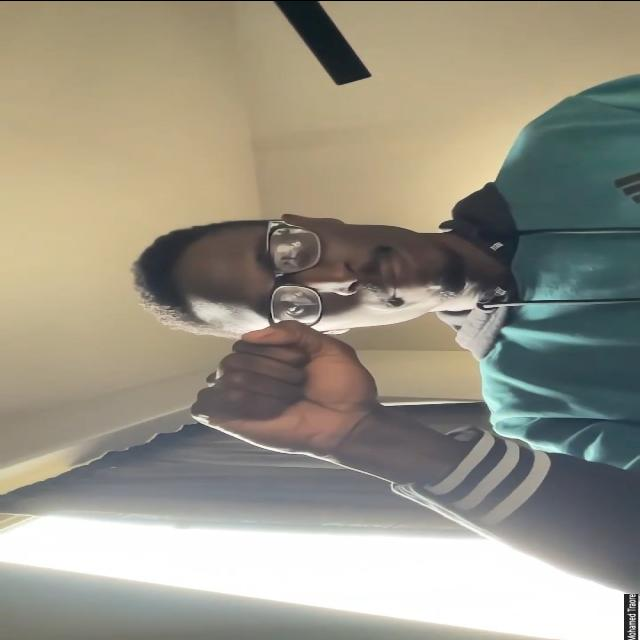Rock: (191, 317, 376, 457)
